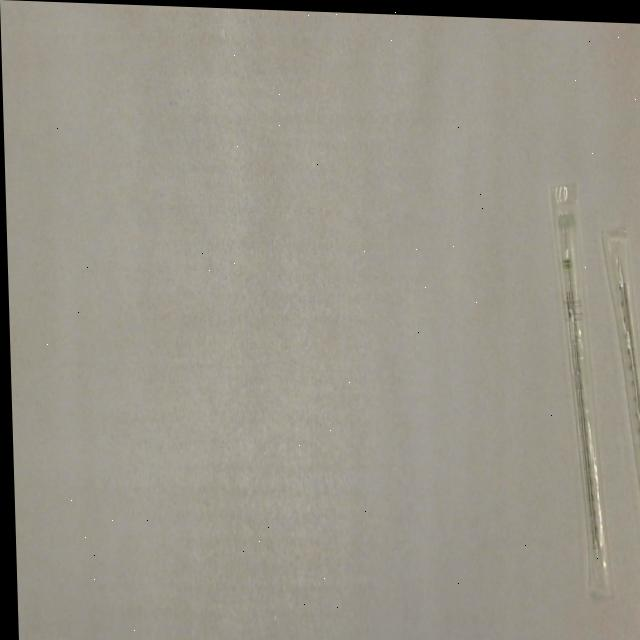Serelogical Pipet 2 mL - Sealed: (543, 171, 611, 605), (595, 218, 640, 623)
